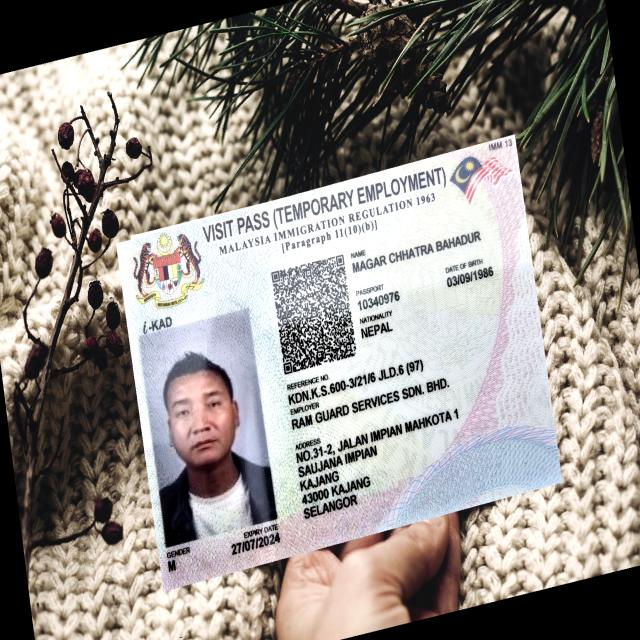ikad-temp: (115, 133, 563, 592)
